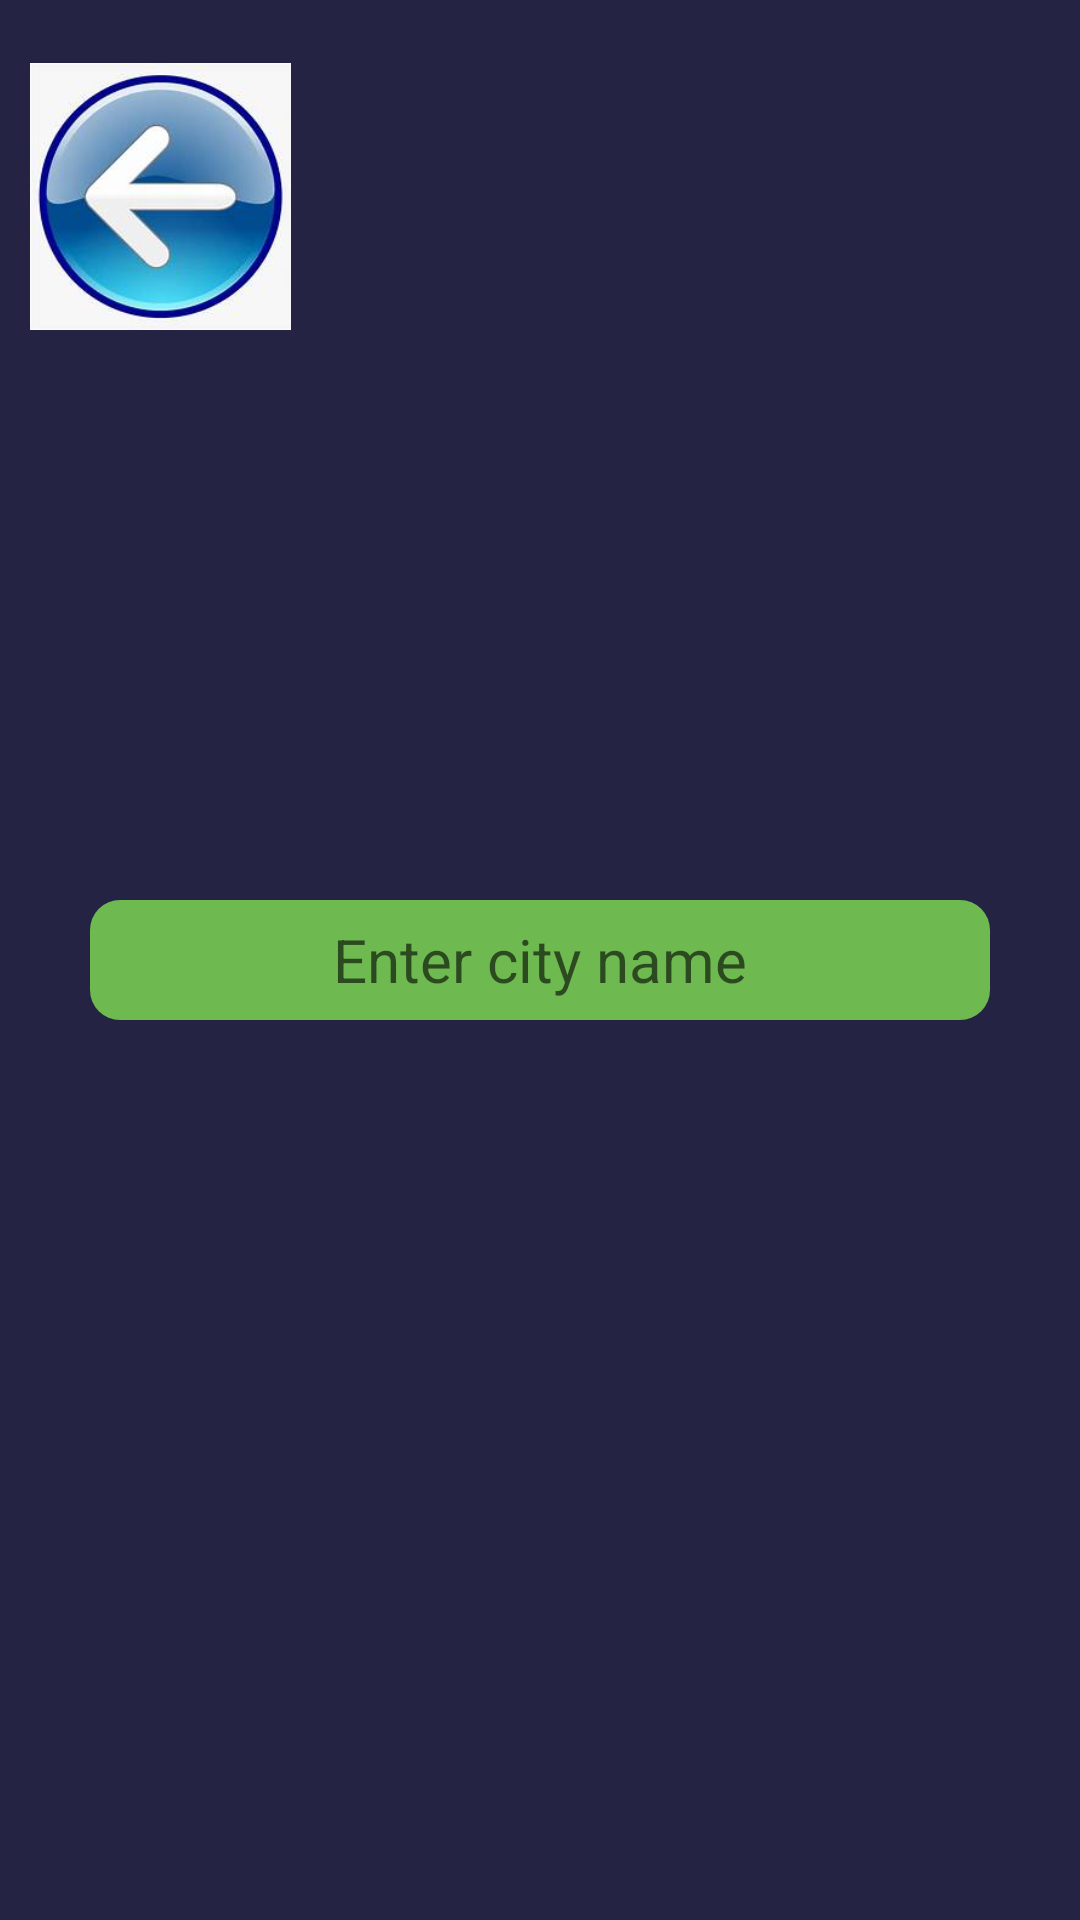

Icon click points for this 1080*1920 phone screenshot, format (x=x, y=y):
back: (x=160, y=196)
